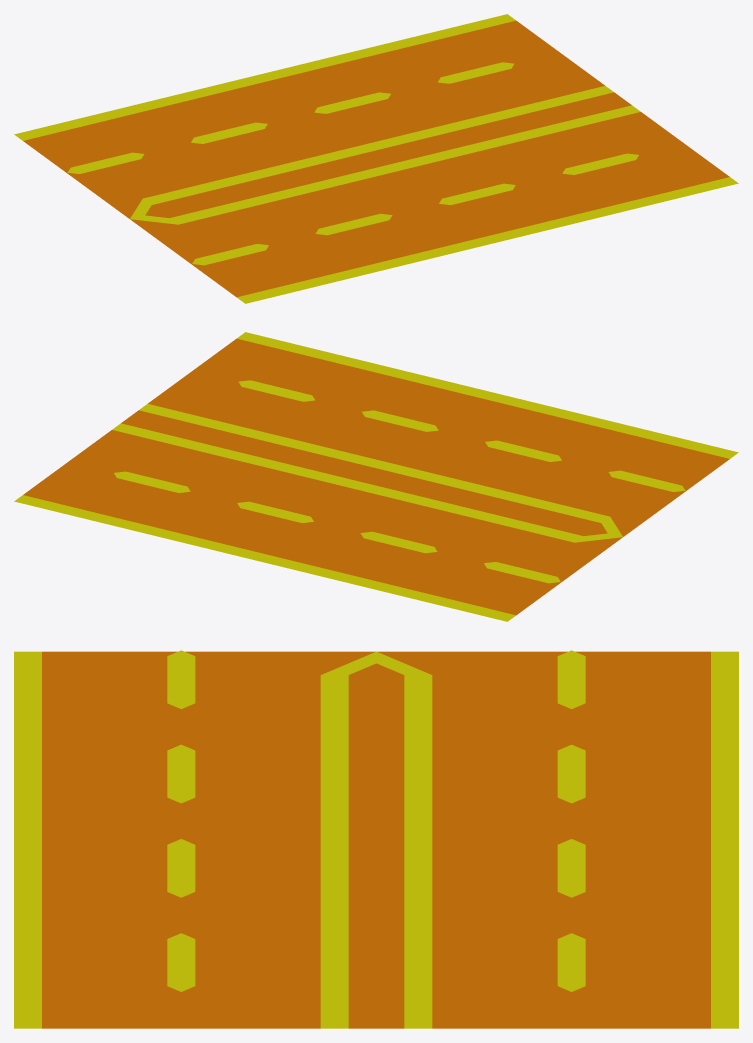
File: Mesh_road_wall_start.fbx
The picture shows the model from 3 angles, top to bottom: view 1: azimuth 30°, elevation 25°; view 2: azimuth 150°, elevation 25°; view 3: azimuth 270°, elevation 25°; orthographic projection. The views are drawn at different scales.
Parts seen in each view (by area): view 1: Mesh_road_wall_start; view 2: Mesh_road_wall_start; view 3: Mesh_road_wall_start.
Boxes of the visible parts, bbox=[...] form: Mesh_road_wall_start: bbox=[14, 14, 738, 303]; Mesh_road_wall_start: bbox=[14, 332, 738, 621]; Mesh_road_wall_start: bbox=[14, 650, 738, 1028].
Size of what is drawn, in the model's own units: 1600 by 2.5 by 1300.
